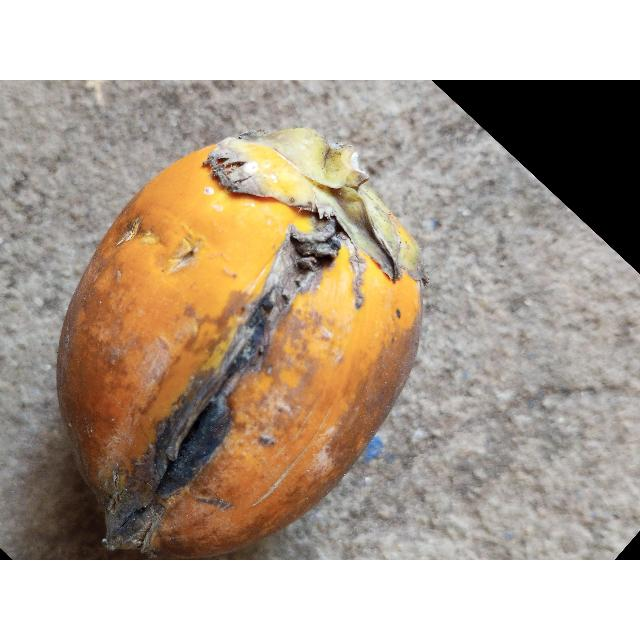damaged: (53, 127, 424, 560)
